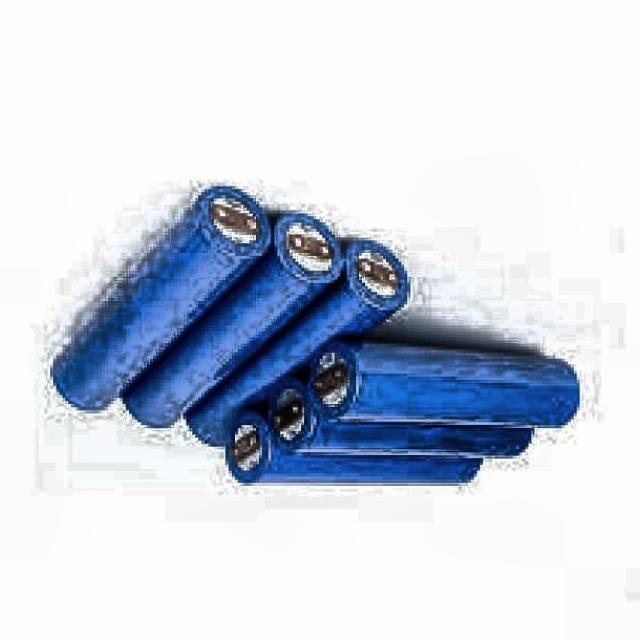battery: (124, 214, 346, 430), (308, 341, 580, 427), (266, 376, 534, 459)
